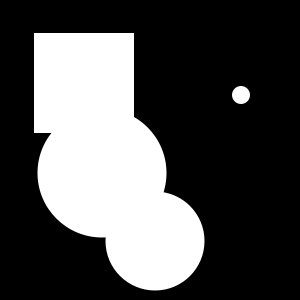circle: (34, 33, 134, 133)
rectangle: (38, 109, 167, 238), (106, 192, 205, 290), (232, 86, 250, 104)
